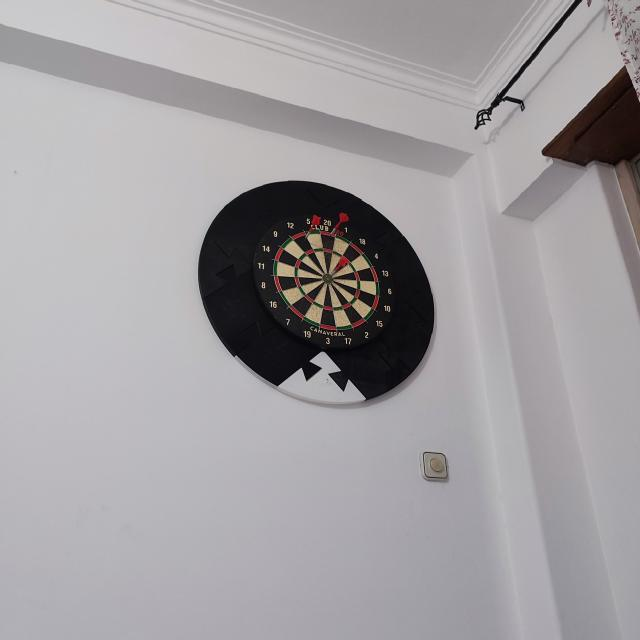dart: (329, 213, 349, 237), (329, 213, 349, 237), (304, 215, 321, 241), (304, 215, 321, 241), (329, 256, 348, 277), (329, 256, 348, 277)
